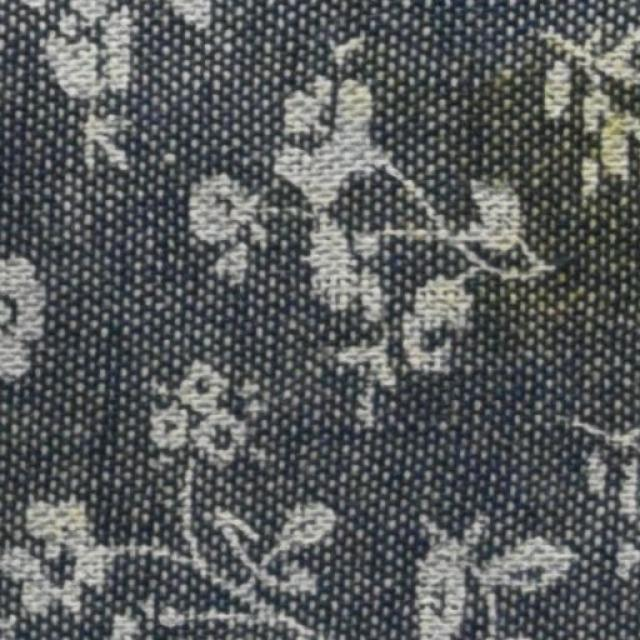Stain: (443, 38, 639, 376)
